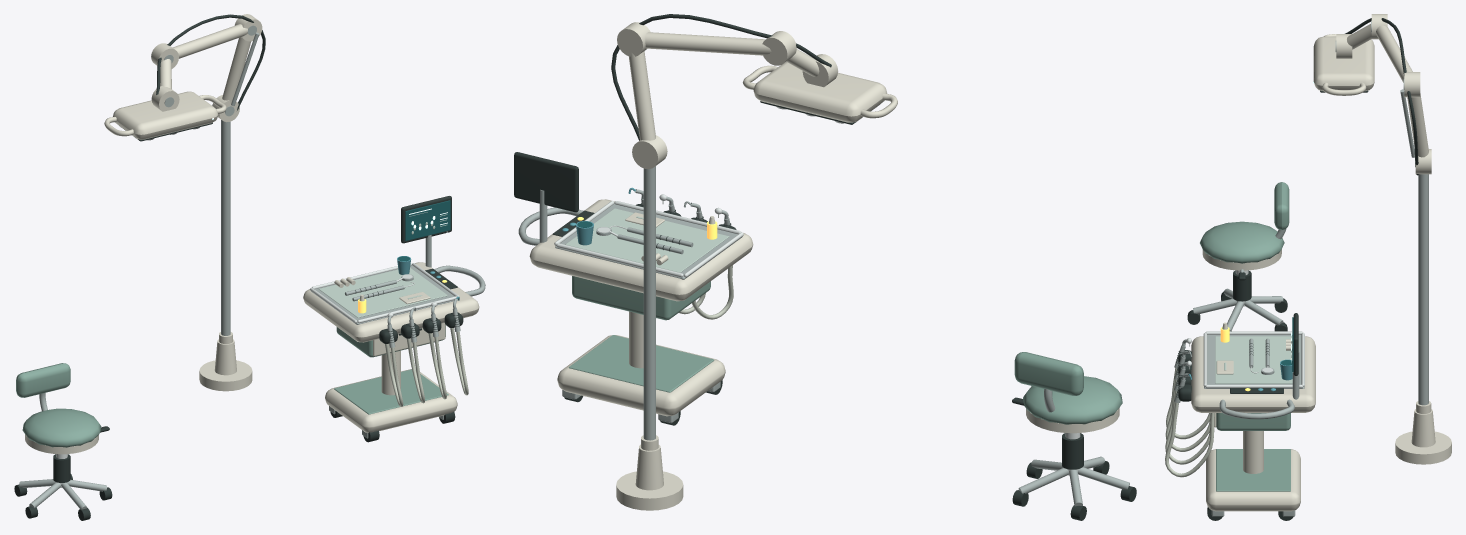
File: equipment.glb
The picture shows the model from 3 angles, left to right: view 1: azimuth 30°, elevation 25°; view 2: azimuth 150°, elevation 25°; view 3: azimuth 270°, elevation 25°; orthographic projection. The views are drawn at different scales.
Visible parts, largest first — view 1: Equipment warm porcelain, Equipment brushed stainless, Equipment enamel sage, Equipment charcoal elastomer, Equipment sterile mint paper, Equipment silicone tubing, Equipment teal display, Equipment polished reflectors; view 2: Equipment warm porcelain, Equipment enamel sage, Equipment brushed stainless, Equipment charcoal elastomer, Equipment sterile mint paper, Equipment polished reflectors; view 3: Equipment warm porcelain, Equipment enamel sage, Equipment brushed stainless, Equipment charcoal elastomer, Equipment sterile mint paper, Equipment silicone tubing, Equipment polished reflectors.
Boxes of the visible parts, x1=… form: Equipment warm porcelain: x1=25, y1=14, x2=479, y2=454; Equipment brushed stainless: x1=19, y1=25, x2=485, y2=509; Equipment enamel sage: x1=16, y1=325, x2=448, y2=447; Equipment charcoal elastomer: x1=14, y1=14, x2=463, y2=520; Equipment sterile mint paper: x1=319, y1=214, x2=447, y2=317; Equipment silicone tubing: x1=385, y1=328, x2=468, y2=406; Equipment teal display: x1=398, y1=200, x2=450, y2=261; Equipment polished reflectors: x1=56, y1=127, x2=459, y2=487; Equipment warm porcelain: x1=529, y1=22, x2=1119, y2=510; Equipment enamel sage: x1=569, y1=276, x2=1122, y2=424; Equipment brushed stainless: x1=518, y1=105, x2=1129, y2=506; Equipment charcoal elastomer: x1=514, y1=14, x2=1136, y2=520; Equipment sterile mint paper: x1=565, y1=208, x2=729, y2=272; Equipment polished reflectors: x1=554, y1=106, x2=1080, y2=475; Equipment warm porcelain: x1=1191, y1=14, x2=1451, y2=511; Equipment enamel sage: x1=1200, y1=182, x2=1290, y2=491; Equipment brushed stainless: x1=1174, y1=20, x2=1428, y2=516; Equipment charcoal elastomer: x1=1175, y1=18, x2=1419, y2=520; Equipment sterile mint paper: x1=1215, y1=336, x2=1298, y2=383; Equipment silicone tubing: x1=1165, y1=368, x2=1214, y2=477; Equipment polished reflectors: x1=1186, y1=270, x2=1304, y2=388.
Size of the model in its own units: 4.05 by 3.15 by 2.02.
